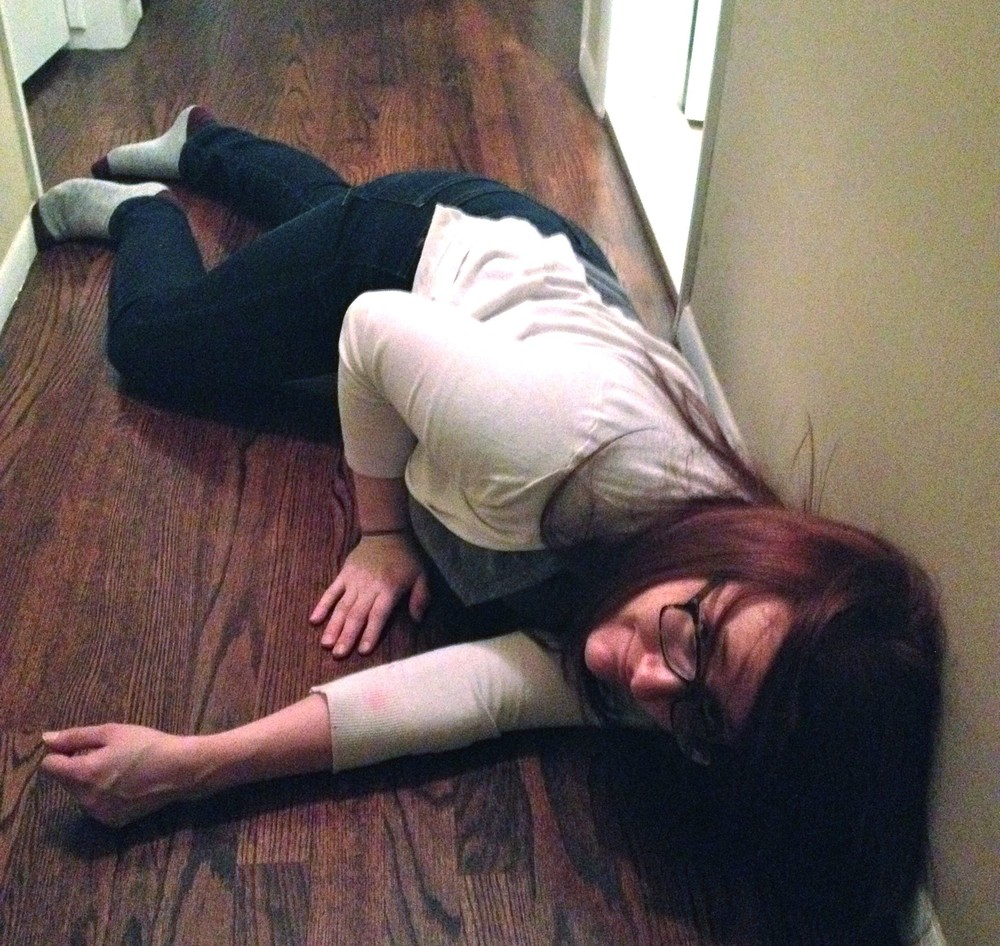collapsed: (9, 57, 1000, 943)
